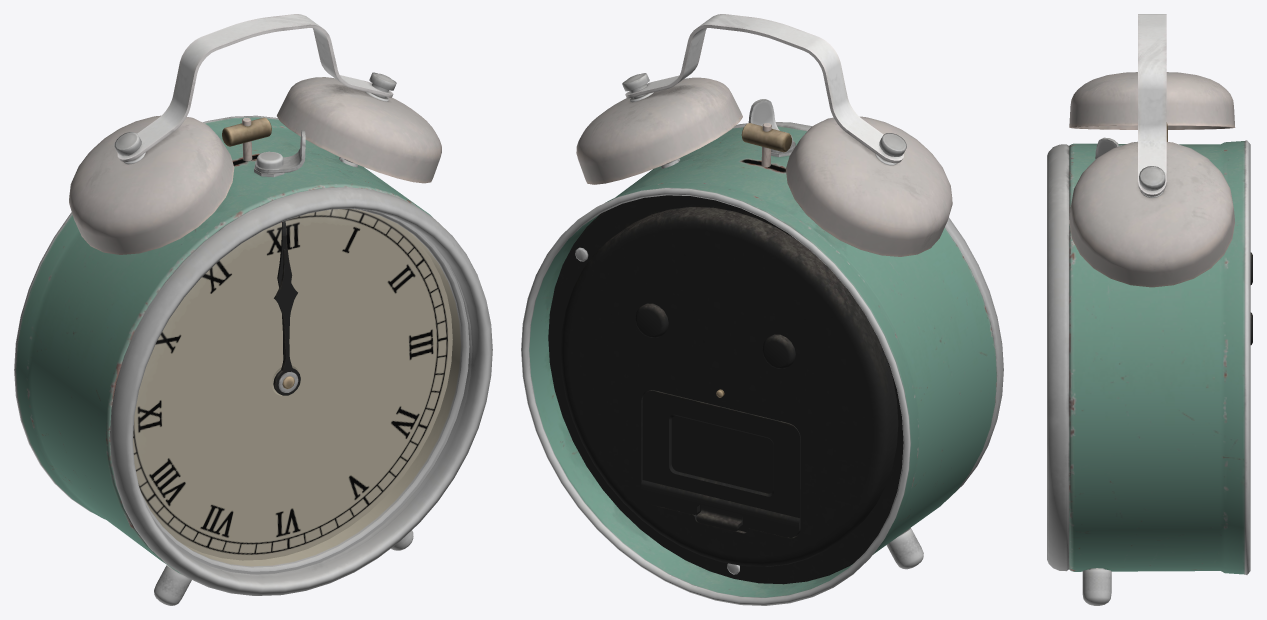
File: alarm_clock.glb
3 renders of one model, left to right at view 1: azimuth 30°, elevation 25°; view 2: azimuth 150°, elevation 25°; view 3: azimuth 270°, elevation 25°, orthographic. The views are drawn at different scales.
Parts seen in each view (by area): view 1: clock, hour, glass; view 2: clock; view 3: clock.
Boxes of the visible parts, x1,y1,x2,y2 form: clock: [14, 14, 492, 605]; hour: [274, 249, 300, 395]; glass: [172, 210, 471, 575]; clock: [521, 14, 1003, 605]; clock: [1047, 14, 1252, 605].
Size of the model in its own units: 0.1317 by 0.1742 by 0.0667.
2 materials, 2 textured.
